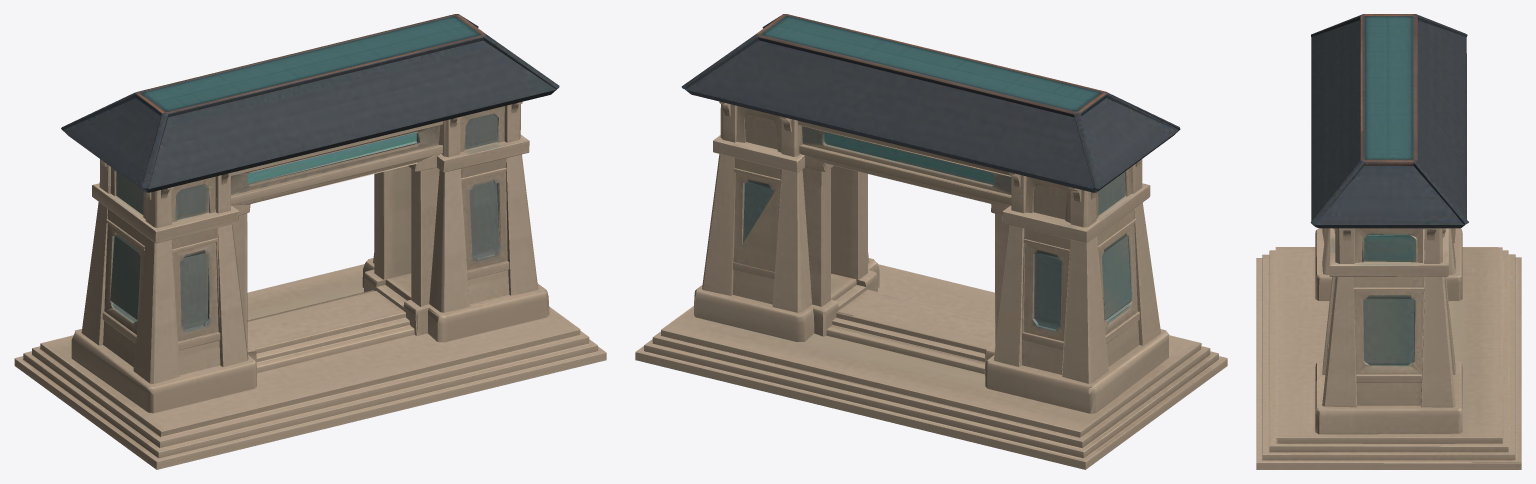
Rendered from connection-gateway-map.glb.
3 renders of one model, left to right at view 1: azimuth 30°, elevation 25°; view 2: azimuth 150°, elevation 25°; view 3: azimuth 270°, elevation 25°, orthographic. The views are drawn at different scales.
Bounding box in the file's own units: 0.9502 × 0.603 × 0.519.
Materials: 1 (1 with a texture image).
